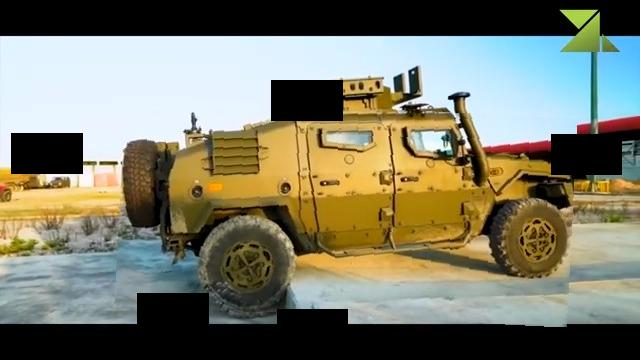MIL_HMMWV: (117, 101, 575, 322)
